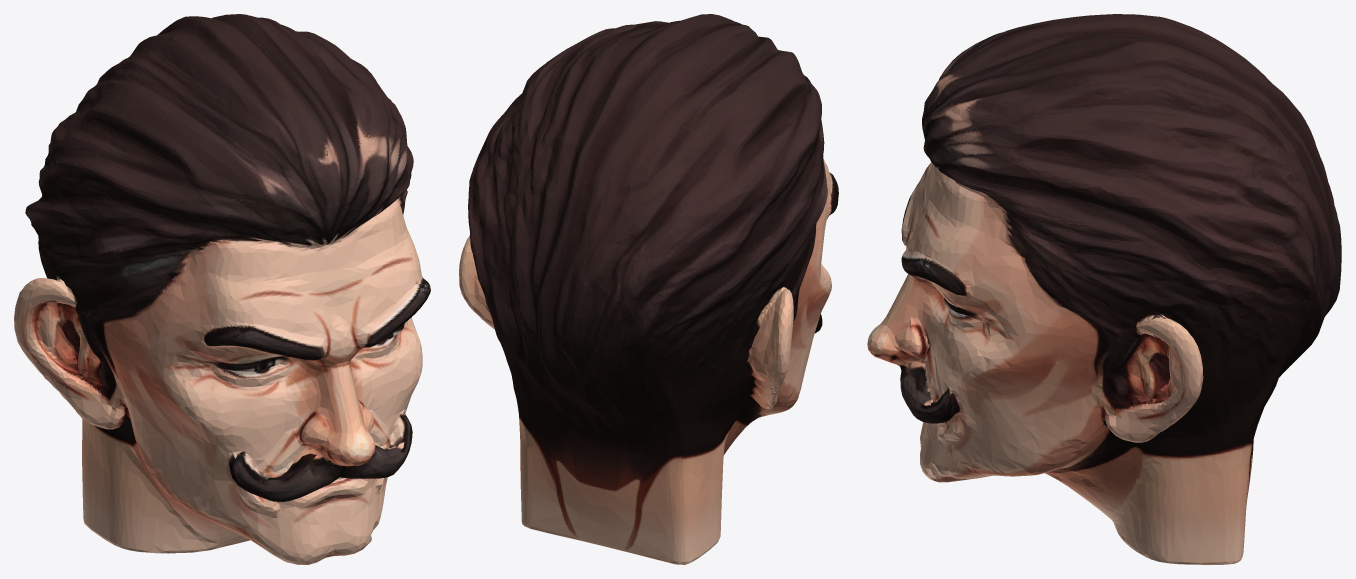
Rendered from side_shinken_repaired_atlas.glb.
3 views of the same model, side by side, from view 1: azimuth 30°, elevation 25°; view 2: azimuth 150°, elevation 25°; view 3: azimuth 270°, elevation 25° (orthographic). The views are drawn at different scales.
Parts seen in each view (by area): view 1: temp_mesh.ply; view 2: temp_mesh.ply; view 3: temp_mesh.ply.
Boxes of the visible parts, x1,y1,x2,y2 form: temp_mesh.ply: [14, 14, 430, 564]; temp_mesh.ply: [459, 14, 838, 564]; temp_mesh.ply: [867, 14, 1341, 564].
Size of the model in its own units: 0.7624 by 1.05 by 0.8976.
Materials: 1 (1 with a texture image).
